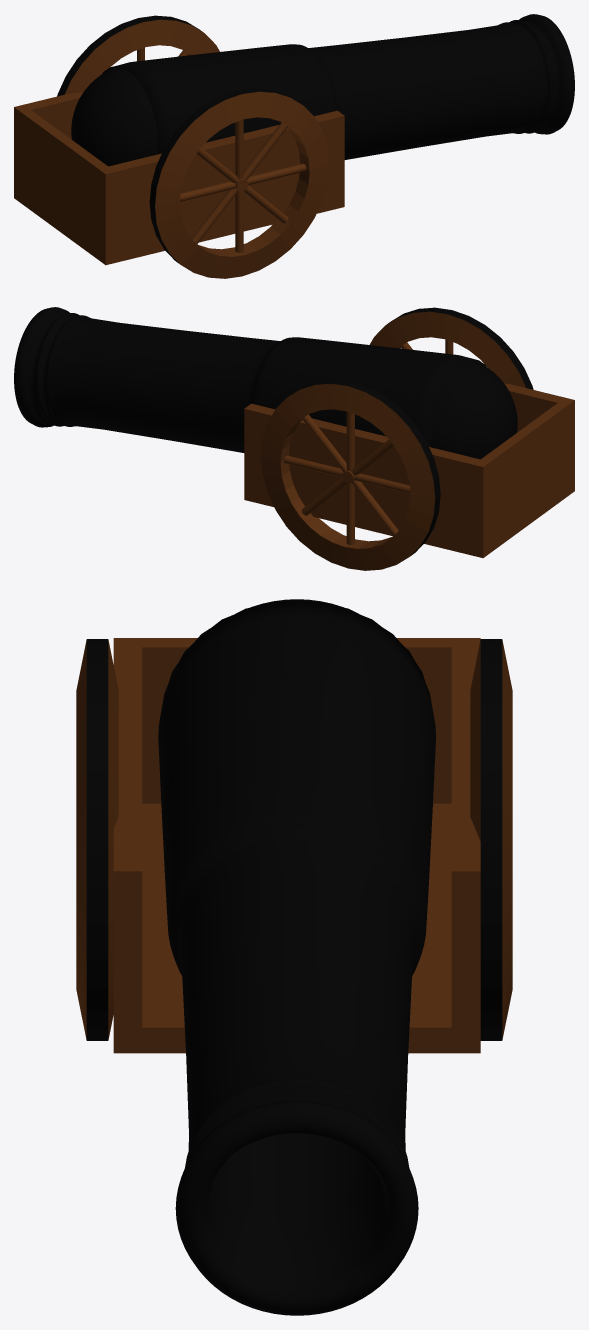
File: Cannon.fbx
The picture shows the model from 3 angles, top to bottom: view 1: azimuth 30°, elevation 25°; view 2: azimuth 150°, elevation 25°; view 3: azimuth 270°, elevation 25°; orthographic projection. The views are drawn at different scales.
Visible parts, largest first — view 1: Cannon; view 2: Cannon; view 3: Cannon.
Boxes of the visible parts, left/top/right/bottom form: Cannon: left=14, top=14, right=574, bottom=278; Cannon: left=14, top=307, right=574, bottom=570; Cannon: left=76, top=599, right=512, bottom=1315.
Bounding box in the file's own units: 720 × 255 × 276.
